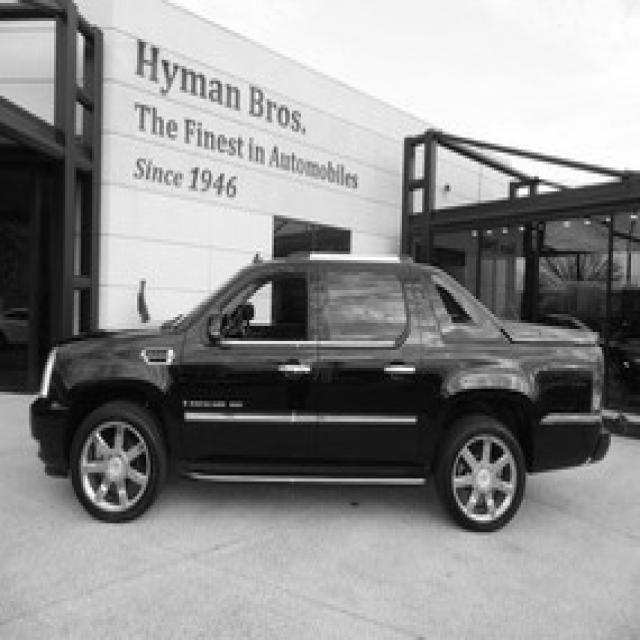car: (29, 248, 611, 532)
